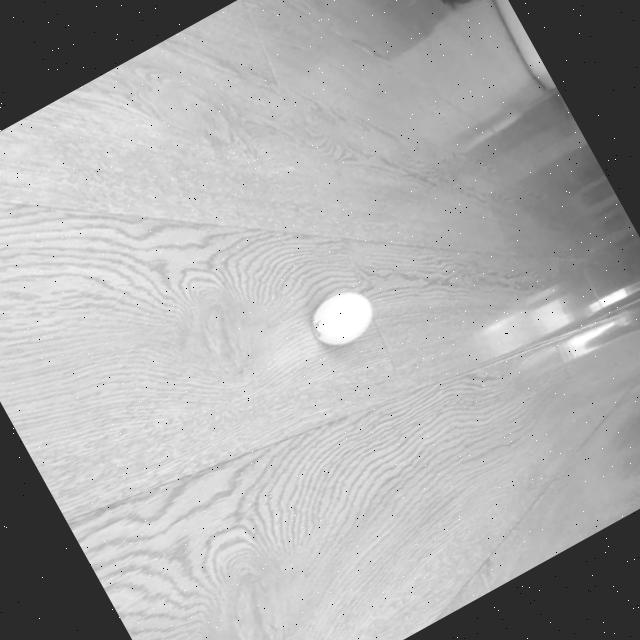ping-pong-ball: (304, 283, 381, 355)
